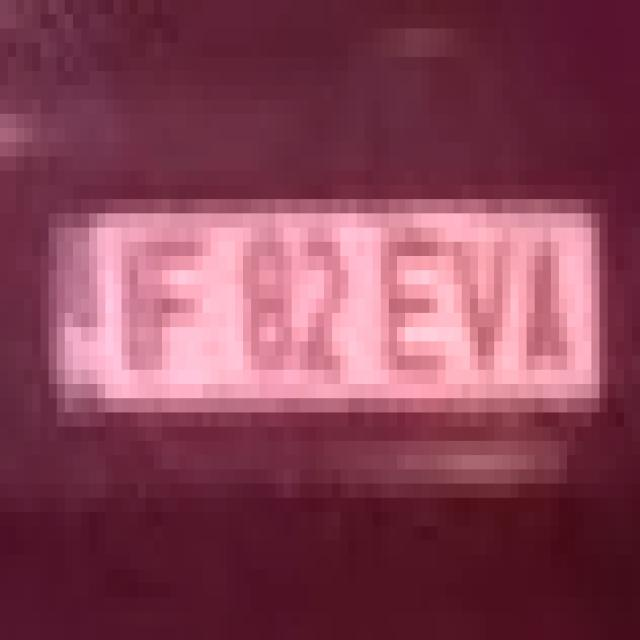Autre: (46, 200, 611, 414)
